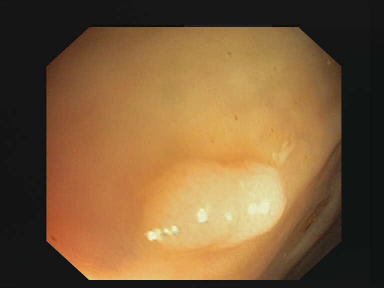polyp: (130, 127, 300, 265)
